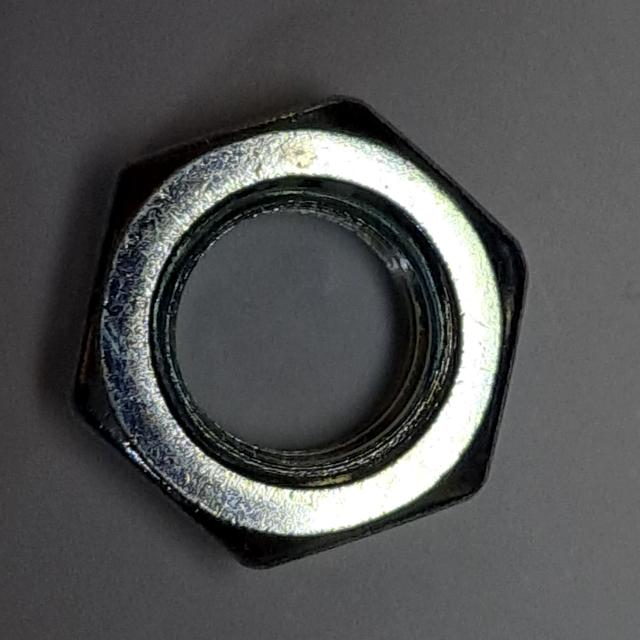Excellent: (53, 83, 544, 584)
